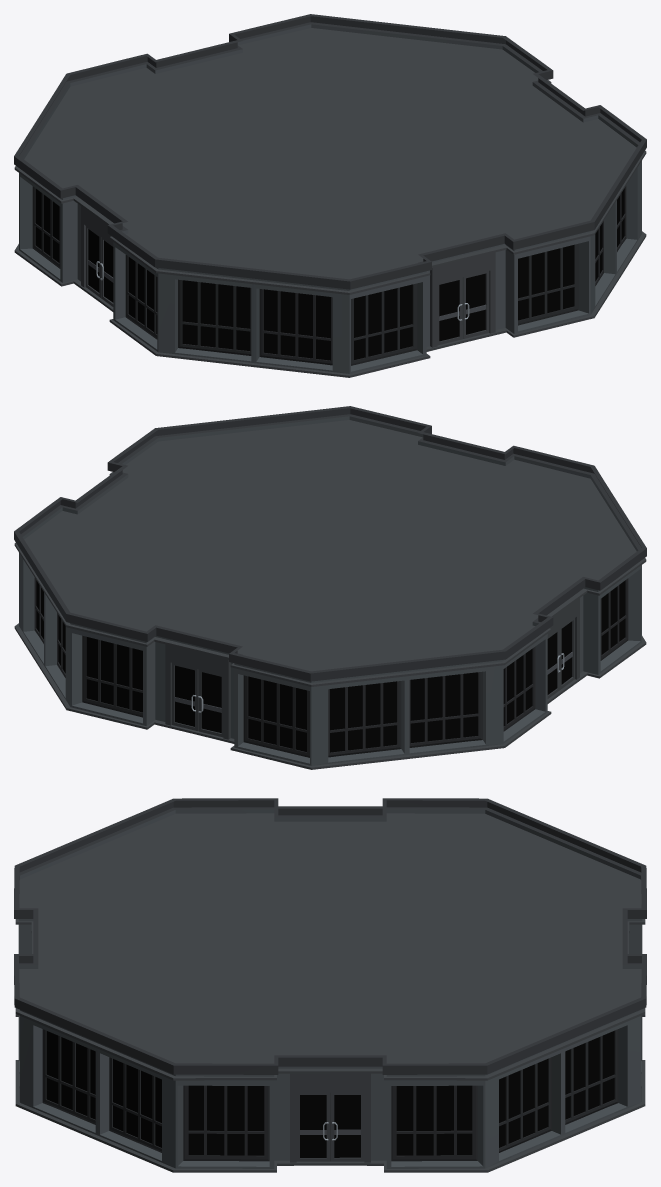
Rendered from Large_Office_Octafon.glb.
3 renders of one model, top to bottom at view 1: azimuth 30°, elevation 25°; view 2: azimuth 150°, elevation 25°; view 3: azimuth 270°, elevation 25°, orthographic. The views are drawn at different scales.
Parts seen in each view (by area): view 1: SM_Bld_OfficeOctagon_Base_01_Glass; view 2: SM_Bld_OfficeOctagon_Base_01_Glass; view 3: SM_Bld_OfficeOctagon_Base_01_Glass.
Part boxes in pixels (left/top/right/bottom): SM_Bld_OfficeOctagon_Base_01_Glass: left=14, top=14, right=646, bottom=377; SM_Bld_OfficeOctagon_Base_01_Glass: left=14, top=406, right=646, bottom=769; SM_Bld_OfficeOctagon_Base_01_Glass: left=14, top=798, right=646, bottom=1172.
Bounding box in the file's own units: 20.78 × 3.9 × 20.78.
Materials: 2 (1 with a texture image).
